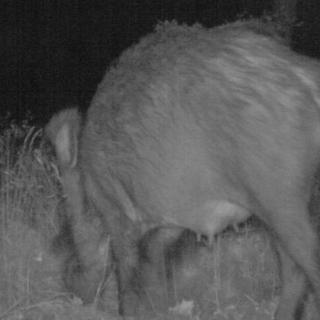Pig: (28, 2, 320, 320)
